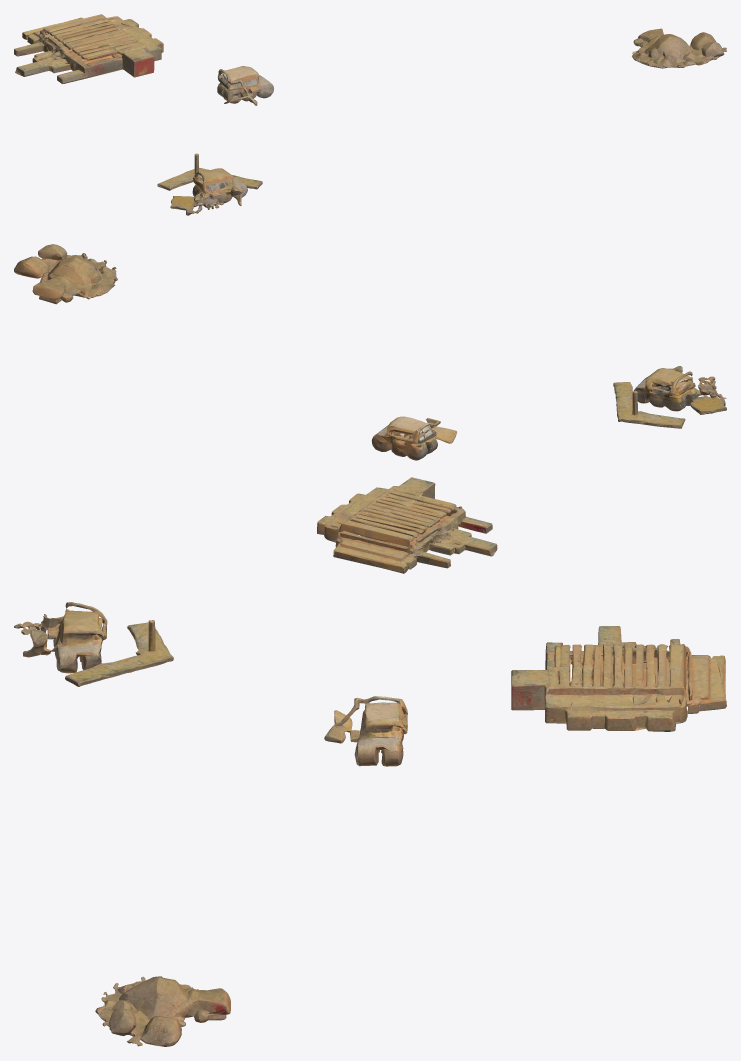
File: ilha-batata.glb
The picture shows the model from 3 angles, top to bottom: view 1: azimuth 30°, elevation 25°; view 2: azimuth 150°, elevation 25°; view 3: azimuth 270°, elevation 25°; orthographic projection. The views are drawn at different scales.
Size of the model in its own units: 1.34 by 0.0643 by 0.9286.
Materials: 1 (1 with a texture image).
